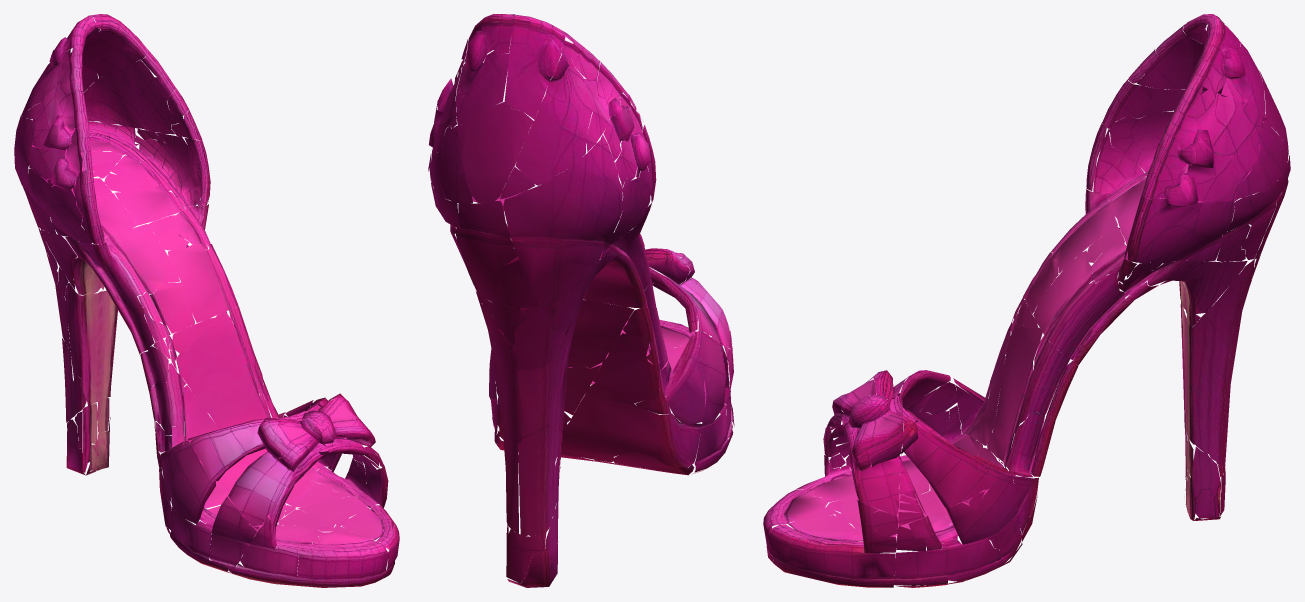
The model's file is barbie.glb.
3 renders of one model, left to right at view 1: azimuth 30°, elevation 25°; view 2: azimuth 150°, elevation 25°; view 3: azimuth 270°, elevation 25°, orthographic. The views are drawn at different scales.
Visible parts, largest first — view 1: tripo_node_6c0b3798-8904-4860-adb0-df6aa9e8ec66; view 2: tripo_node_6c0b3798-8904-4860-adb0-df6aa9e8ec66; view 3: tripo_node_6c0b3798-8904-4860-adb0-df6aa9e8ec66.
Boxes of the visible parts, <box> form: tripo_node_6c0b3798-8904-4860-adb0-df6aa9e8ec66: <box>14,14,399,587</box>; tripo_node_6c0b3798-8904-4860-adb0-df6aa9e8ec66: <box>428,14,734,587</box>; tripo_node_6c0b3798-8904-4860-adb0-df6aa9e8ec66: <box>763,14,1290,587</box>.
Bounding box in the file's own units: 0.4915 × 0.9786 × 0.9386.
Materials: 1 (1 with a texture image).
